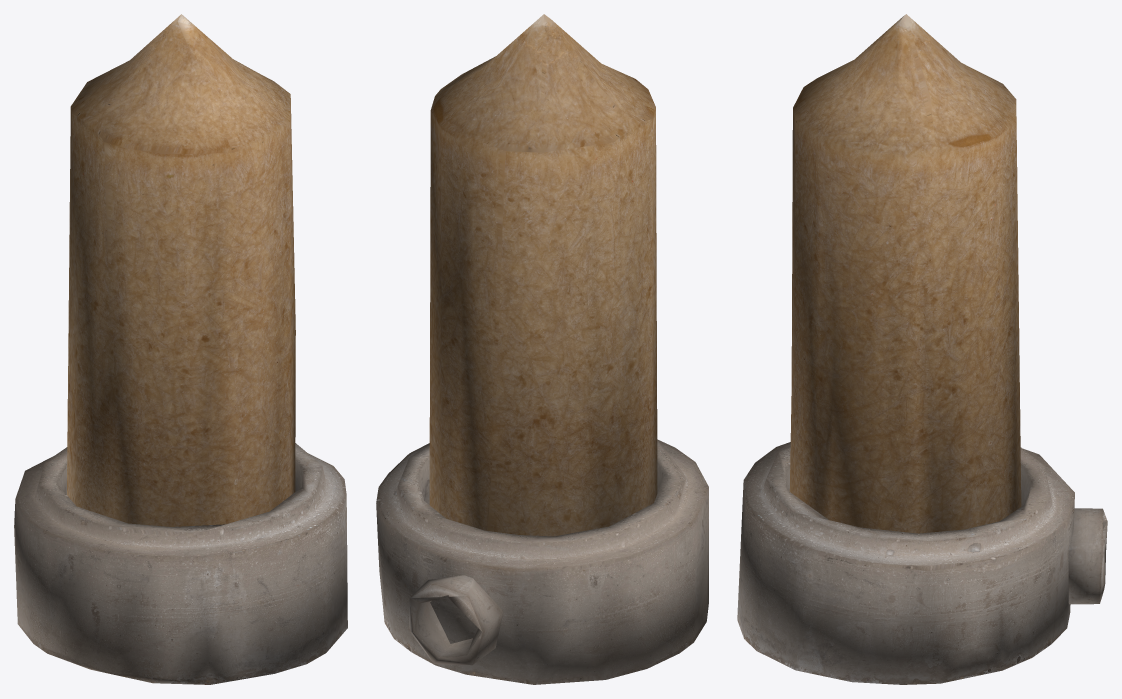
File: SM_Candle_01.fbx
3 renders of one model, left to right at view 1: azimuth 30°, elevation 25°; view 2: azimuth 150°, elevation 25°; view 3: azimuth 270°, elevation 25°, orthographic.
Visible parts, largest first — view 1: SM_Candle_01; view 2: SM_Candle_01; view 3: SM_Candle_01.
Boxes of the visible parts, left/top/right/bottom form: SM_Candle_01: left=14, top=14, right=347, bottom=684; SM_Candle_01: left=376, top=14, right=708, bottom=684; SM_Candle_01: left=737, top=14, right=1107, bottom=684.
Size of the model in its own units: 7.97 by 16.02 by 8.92.
